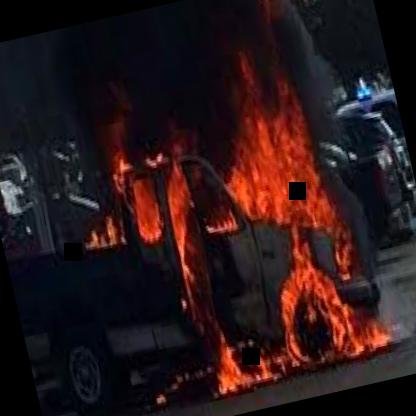fire: (92, 57, 386, 396)
